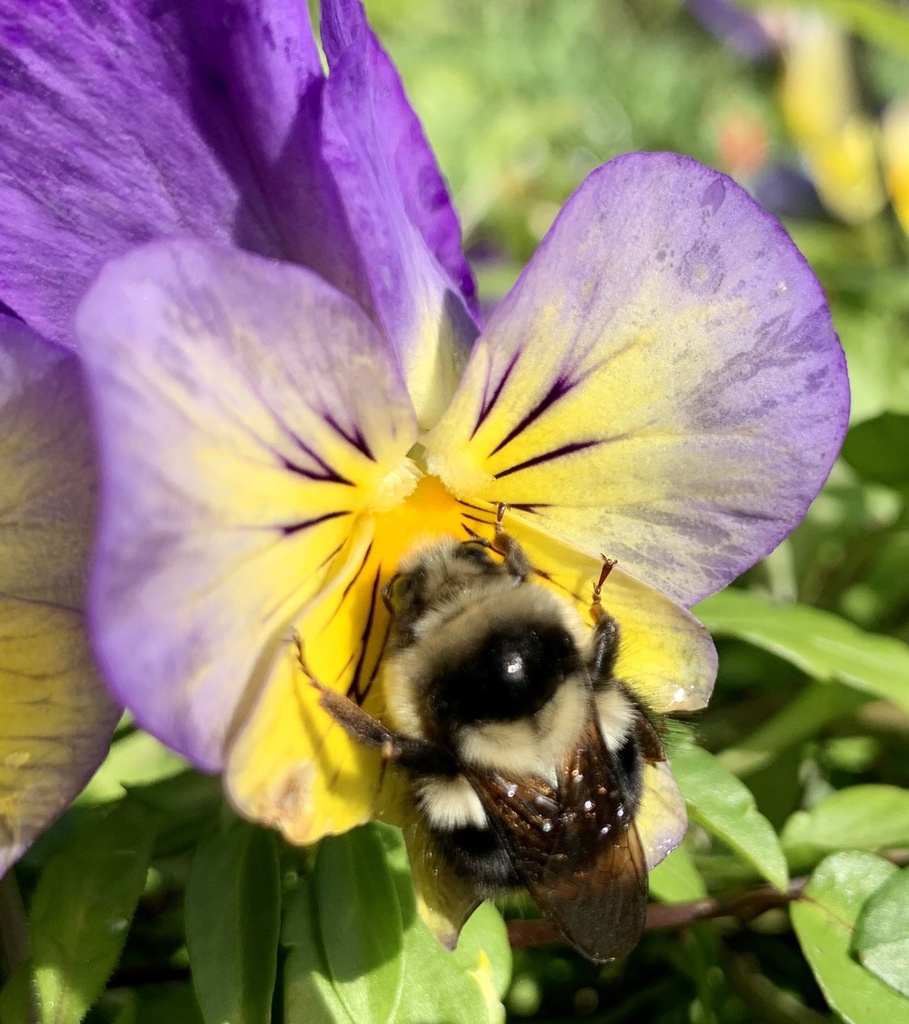bumblebee: (290, 500, 674, 972)
